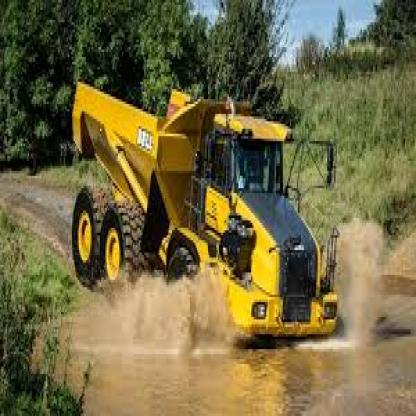dump_truck: (61, 70, 348, 366)
